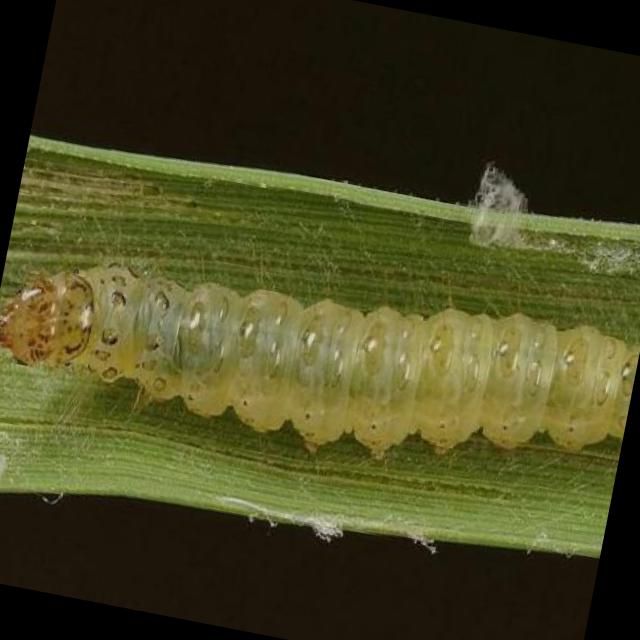leaf-folder: (0, 193, 640, 524)
